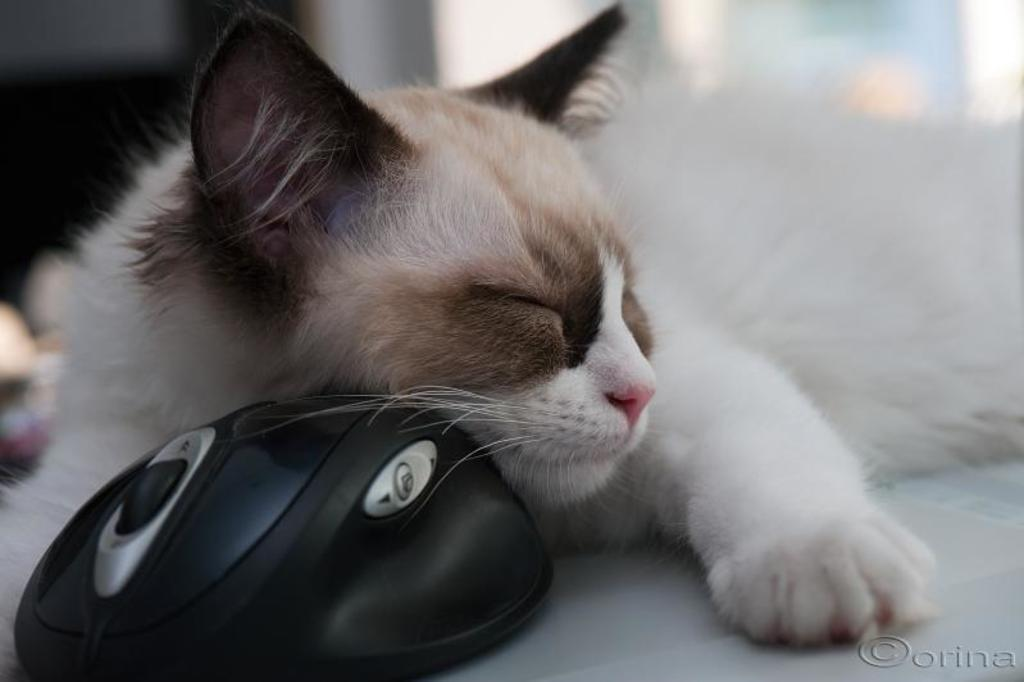Computer-mouse: (18, 381, 564, 681)
